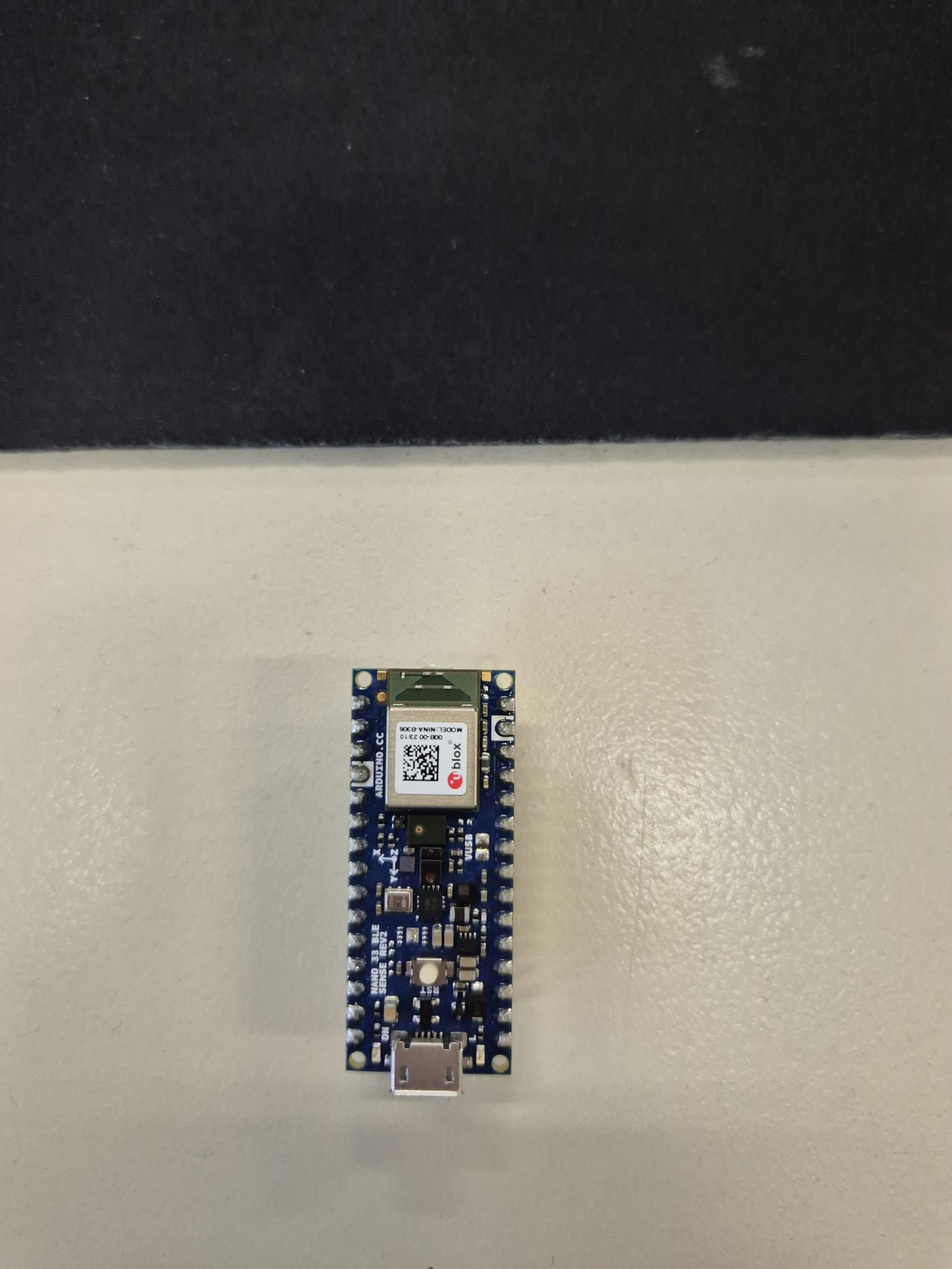arduino-nano-ble-sense: (347, 669, 514, 1095)
